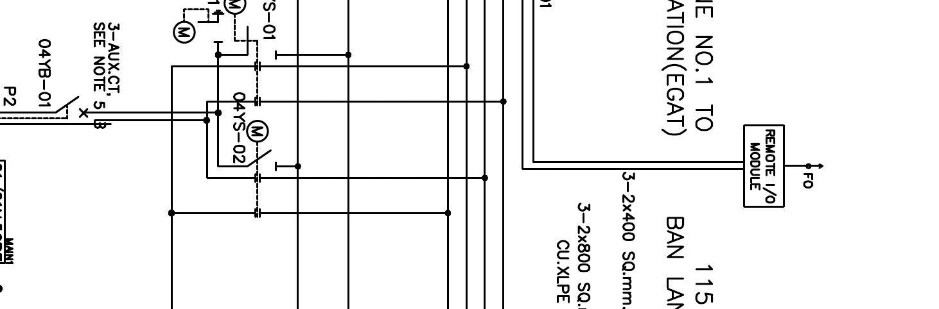115_1way_ds_w_motor: (245, 119, 277, 172)
115_breaker: (55, 95, 89, 118)
115_gs_w_motor: (172, 8, 225, 44)
remote_io_module: (743, 124, 785, 208)
